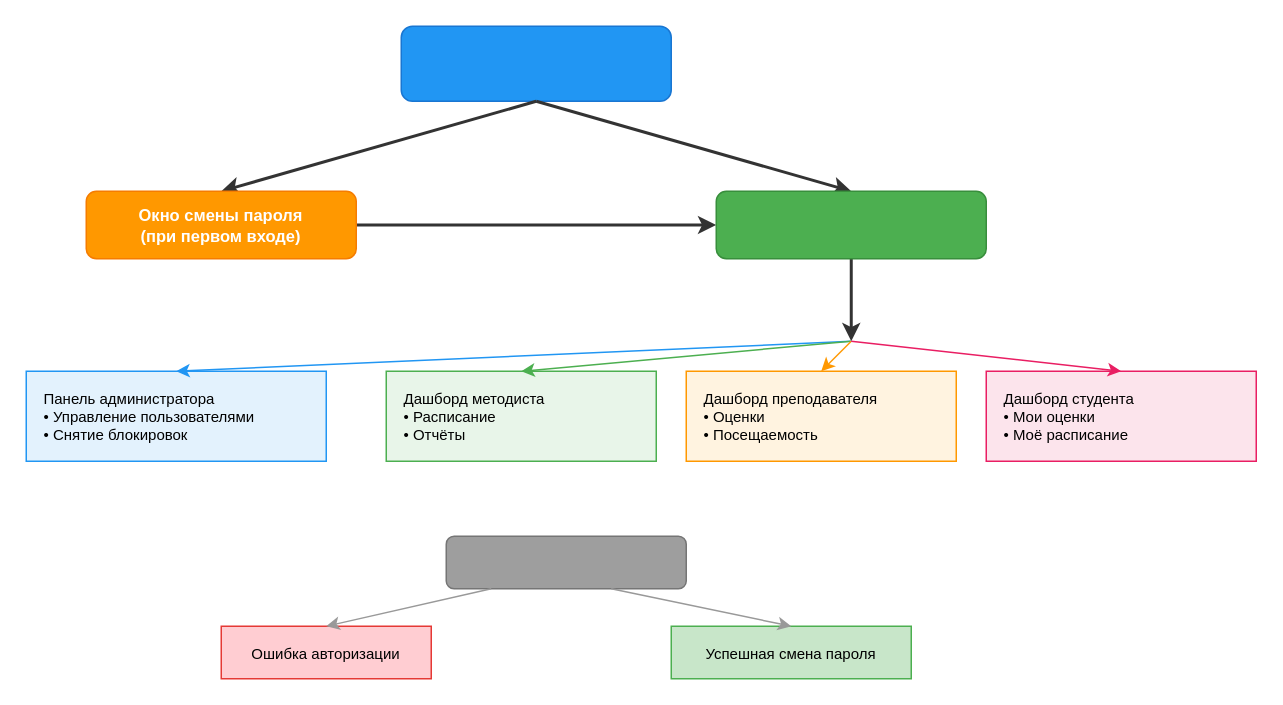
Some shapes in this 1283 by 705 pixel diagram are drawn without their labels. The shapes that lost their labels are listed below. From the top down, each one's centre as x and y in pixels, then its label:
(x=535, y=63): Окно авторизации
(x=850, y=224): Дашборды по ролям (после авторизации)
(x=565, y=562): Информационные окна
